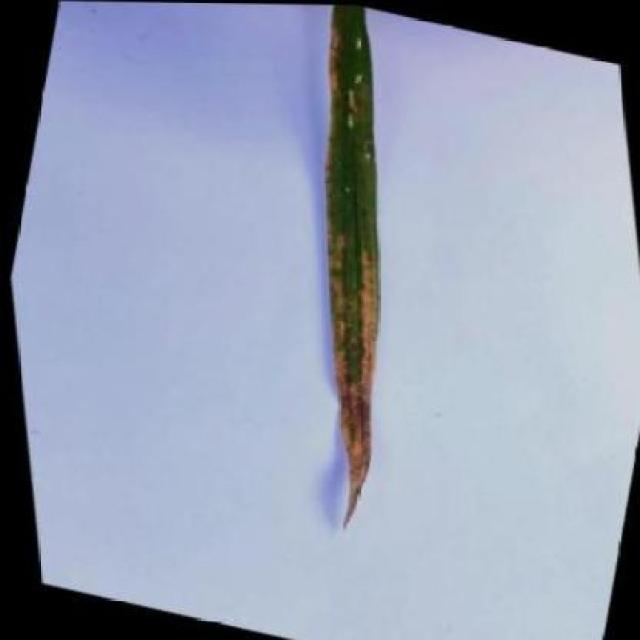Rice False Smut: (274, 196, 428, 535), (206, 2, 442, 206)
